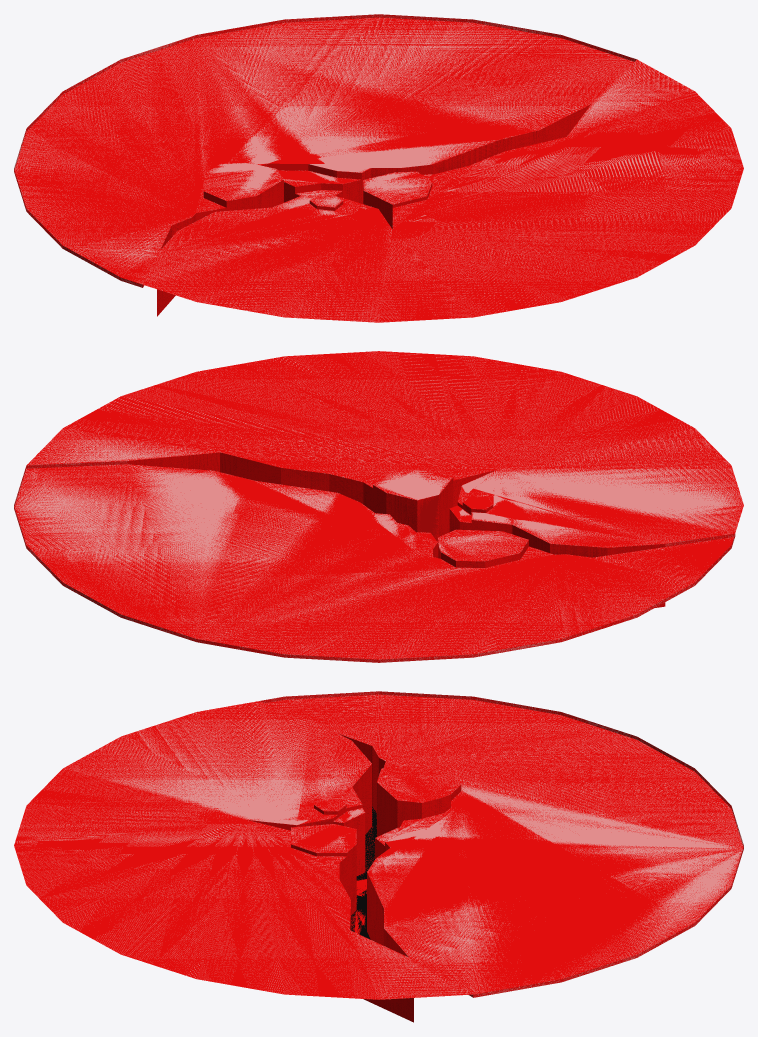
The model's file is DustWorld2.fbx.
3 renders of one model, top to bottom at view 1: azimuth 30°, elevation 25°; view 2: azimuth 150°, elevation 25°; view 3: azimuth 270°, elevation 25°, orthographic.
Parts seen in each view (by area): view 1: Model; view 2: Model; view 3: Model.
Part boxes in pixels (x1=…): Model: x1=14, y1=14, x2=743, y2=322; Model: x1=14, y1=351, x2=743, y2=662; Model: x1=14, y1=691, x2=743, y2=1022.
Bounding box in the file's own units: 2 × 0.2 × 2.
